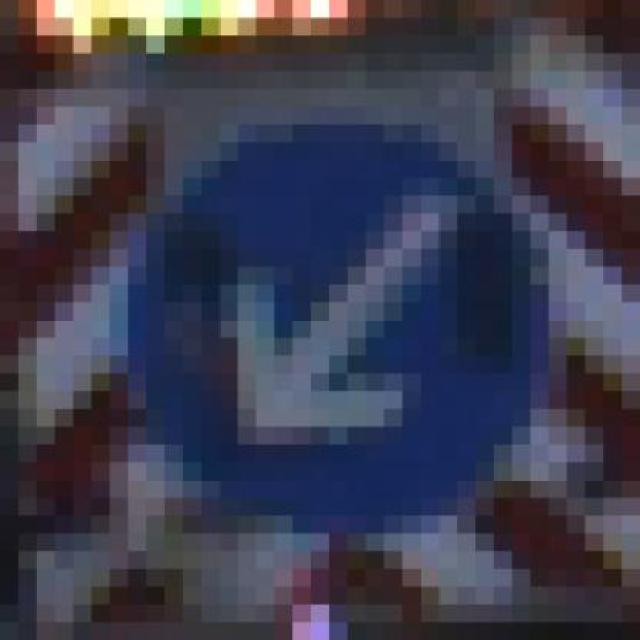Keep-Left: (110, 89, 585, 552)
